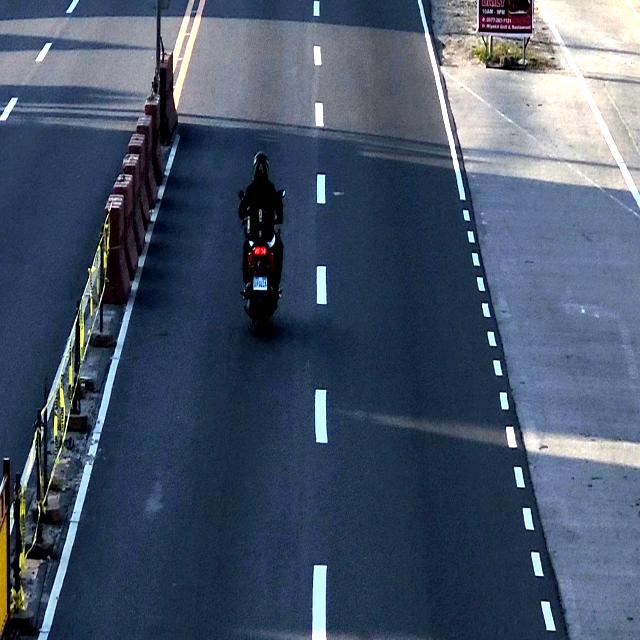License-Plate: (250, 272, 268, 292)
Motorcycle: (242, 154, 280, 331)
